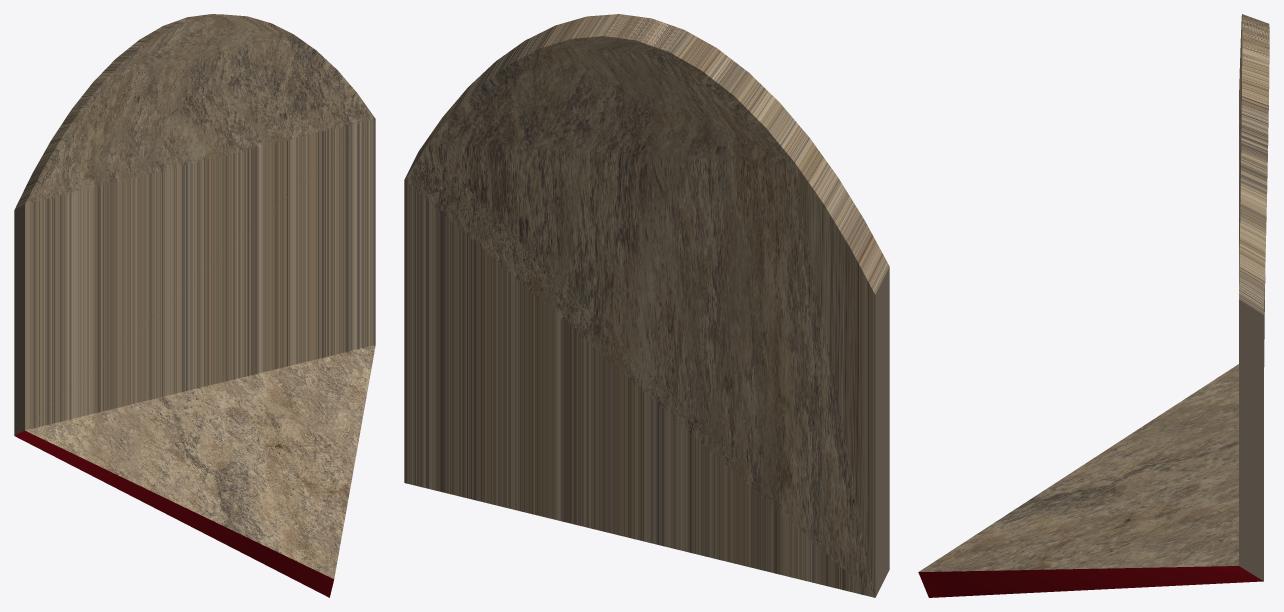
Rendered from tomb2.glb.
The picture shows the model from 3 angles, left to right: view 1: azimuth 30°, elevation 25°; view 2: azimuth 150°, elevation 25°; view 3: azimuth 270°, elevation 25°; orthographic projection. The views are drawn at different scales.
Visible parts, largest first — view 1: tomb; view 2: tomb; view 3: tomb.
Boxes of the visible parts, box(x1,y1,x2,y2) form: tomb: box(14, 14, 375, 597); tomb: box(404, 14, 889, 597); tomb: box(918, 14, 1269, 597).
Bounding box in the file's own units: 2.83 × 3.72 × 2.08.
Materials: 2 (1 with a texture image).
